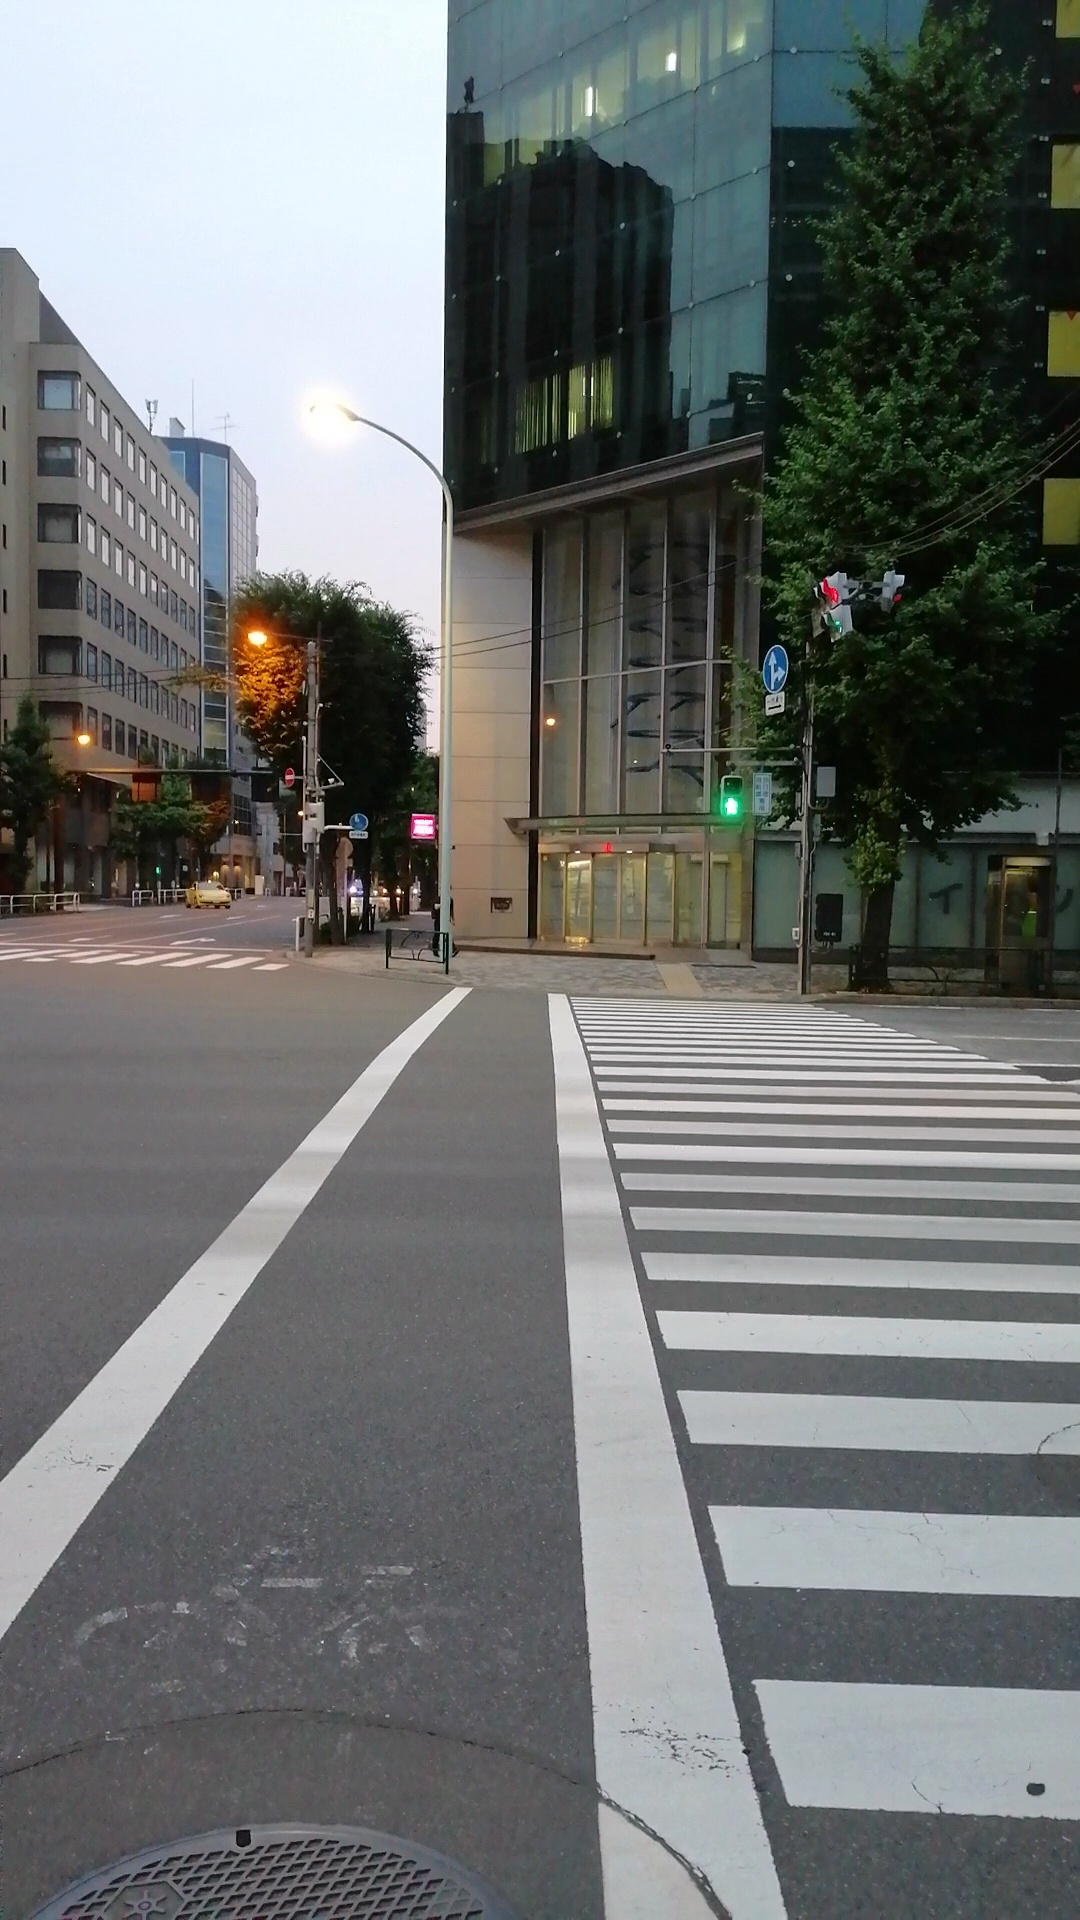green: (717, 775, 742, 818)
